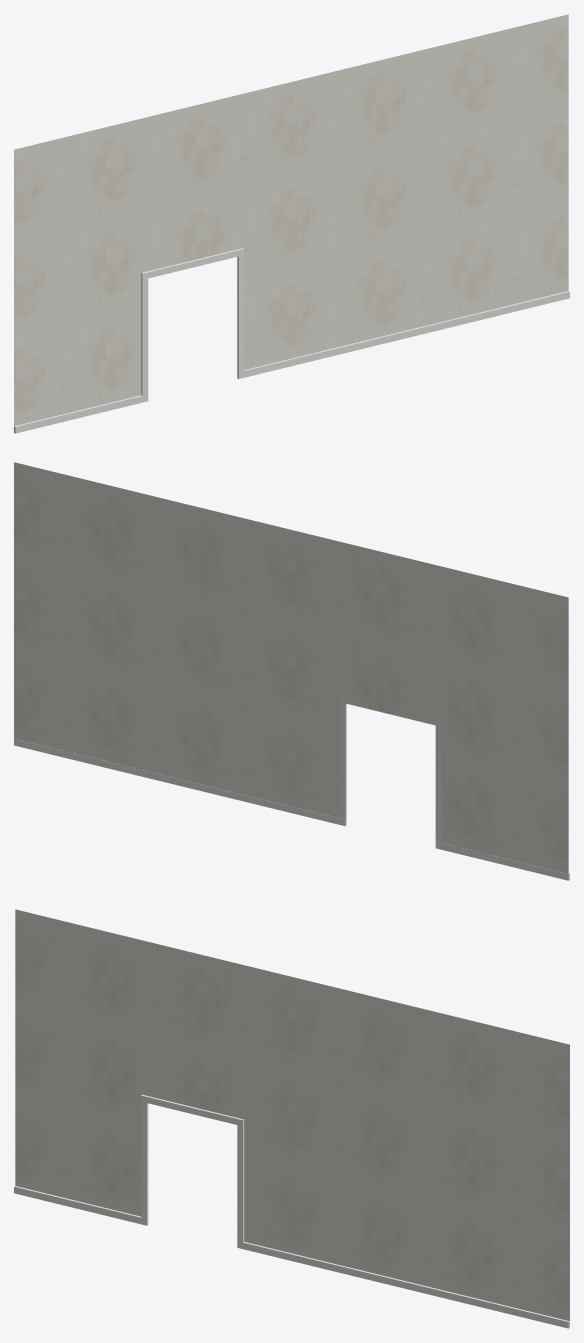
The picture shows the model from 3 angles, top to bottom: view 1: azimuth 30°, elevation 25°; view 2: azimuth 150°, elevation 25°; view 3: azimuth 330°, elevation 25°; orthographic projection.
Visible parts, largest first — view 1: jx_wm_12_f4f4dc8e; view 2: jx_wm_12_f4f4dc8e; view 3: jx_wm_12_f4f4dc8e.
Part boxes in pixels (x1,y1,x2,y2): jx_wm_12_f4f4dc8e: [14, 14, 569, 433]; jx_wm_12_f4f4dc8e: [14, 462, 569, 880]; jx_wm_12_f4f4dc8e: [14, 909, 569, 1328].
Bounding box in the file's own units: 12.3 × 6 × 0.05.
2 materials, 2 textured.
